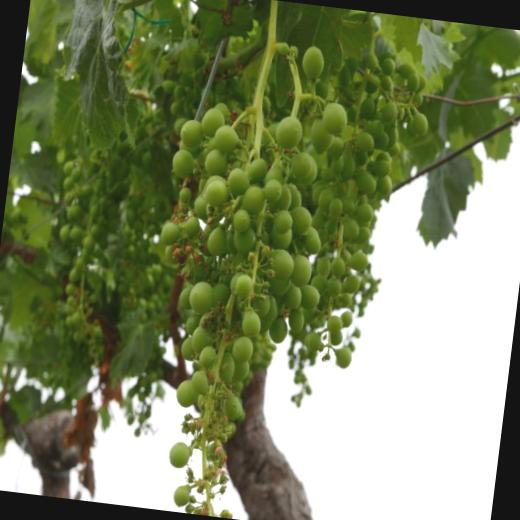Orange: (22, 1, 437, 520)
